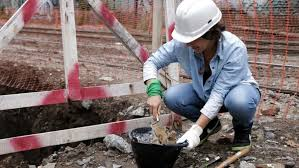casco: (170, 1, 223, 44)
